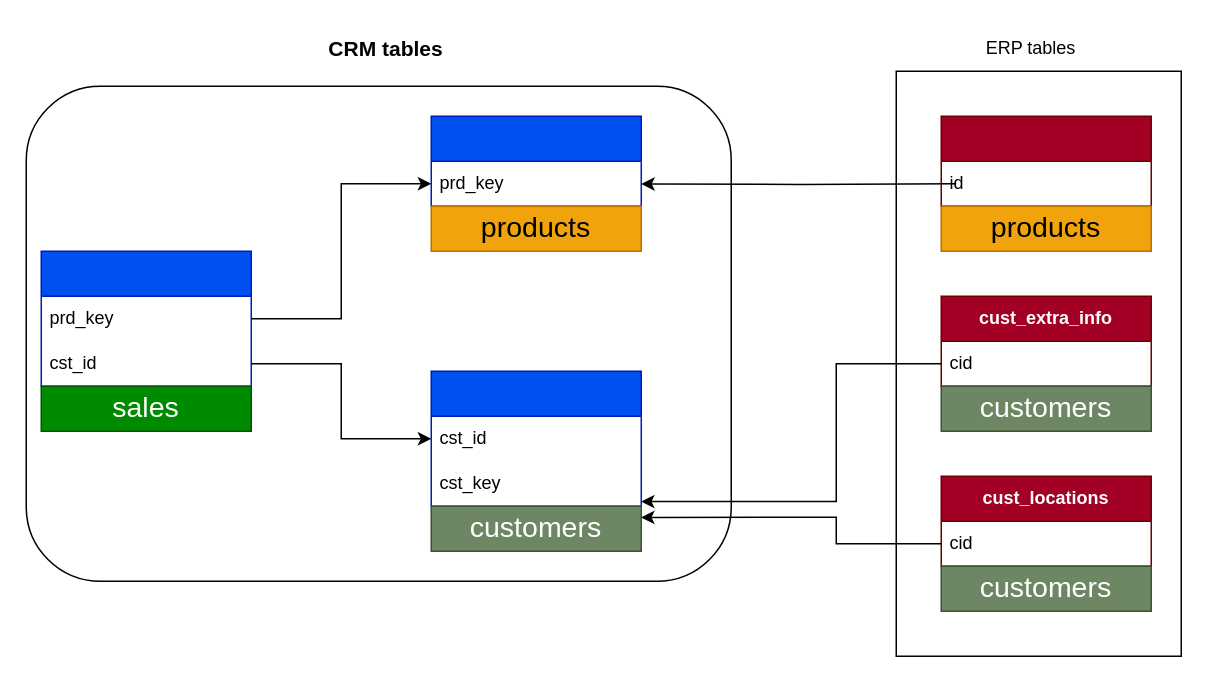
Image size: 1208x683. Some labels were removed from this diagram. Each missing label, with the box of its shape:
crm sales details: (40, 250, 251, 386)
cust_info: (430, 370, 641, 506)
prd_categories: (940, 115, 1151, 206)
prd_info: (430, 115, 641, 206)
